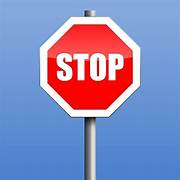stop: (39, 17, 140, 117)
